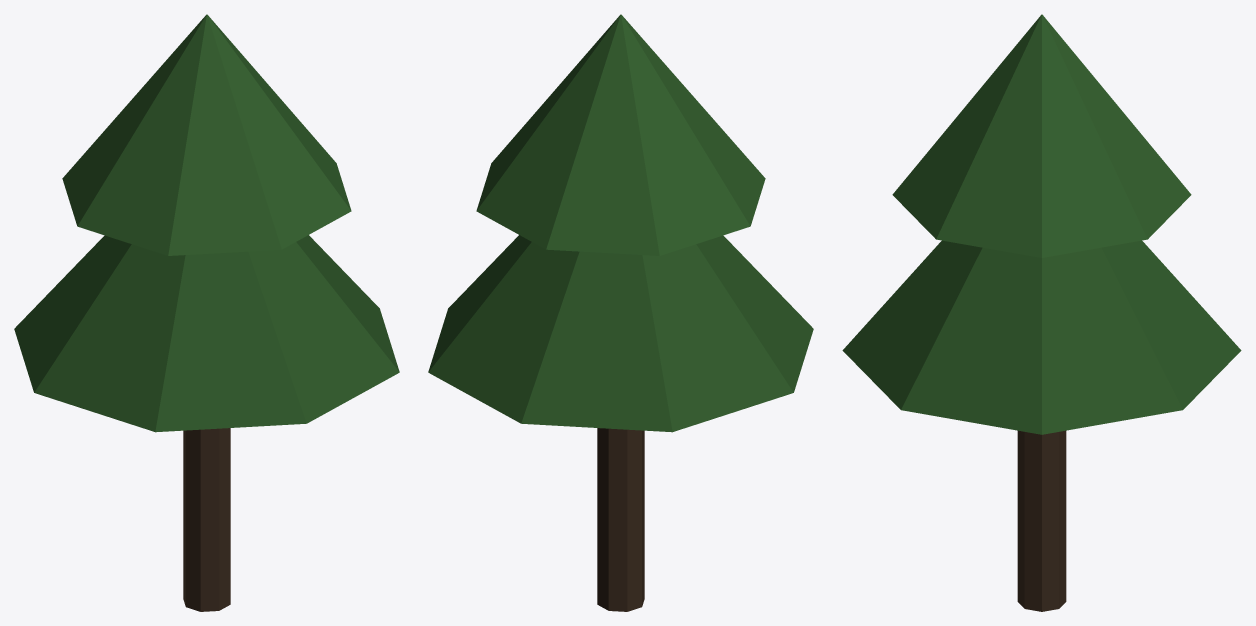
File: prop_tree_b-OoTkq5g9.glb
3 renders of one model, left to right at view 1: azimuth 30°, elevation 25°; view 2: azimuth 150°, elevation 25°; view 3: azimuth 270°, elevation 25°, orthographic.
Visible parts, largest first — view 1: prop; view 2: prop; view 3: prop.
Boxes of the visible parts, <box> form: prop: <box>14,14,399,611</box>; prop: <box>428,14,813,611</box>; prop: <box>842,14,1241,611</box>.
Bounding box in the file's own units: 3.6 × 5.85 × 3.6.
